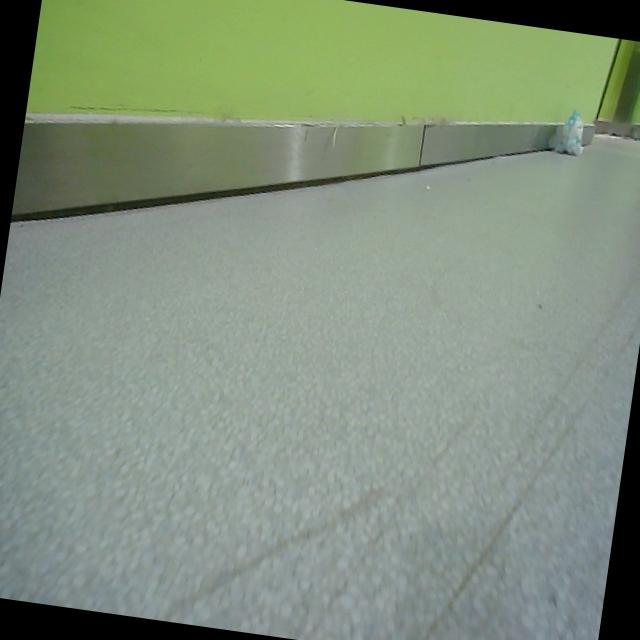xiaoba: (558, 105, 590, 161)
